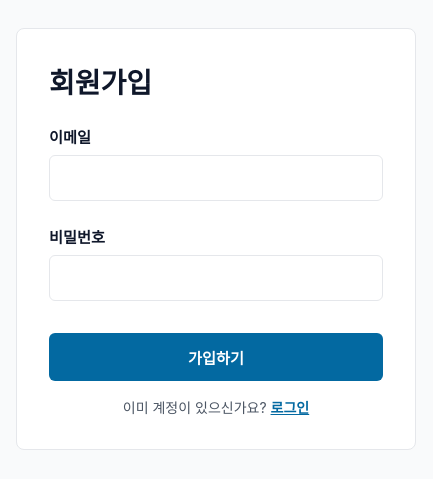
SignupPage › 6자 미만 비밀번호 입력 시 오류 메시지를 보여준다
Type "a@b.com" into the field labelled "이메일" at point(216, 178), box left=49, top=155, right=383, bottom=201
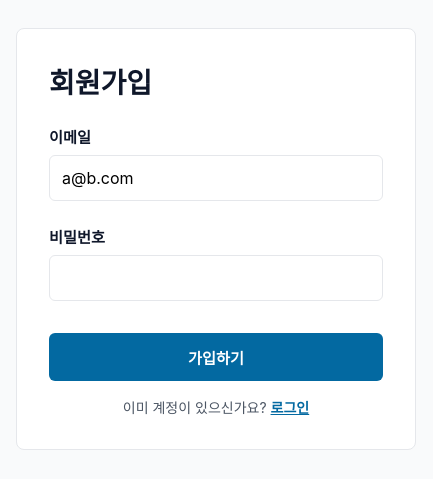
Type "123" into the password field labelled "비밀번호" at point(216, 278), box left=49, top=255, right=383, bottom=301
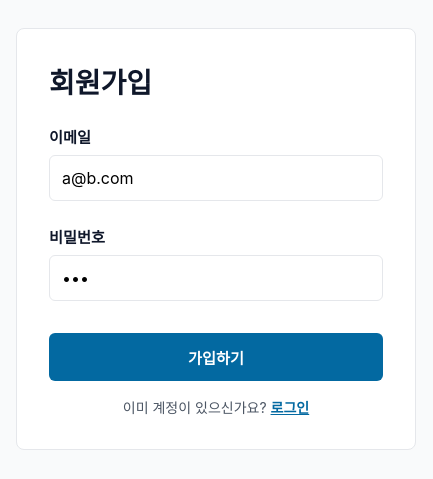
Click the button "가입하기" at point(216, 357), box left=49, top=333, right=383, bottom=381
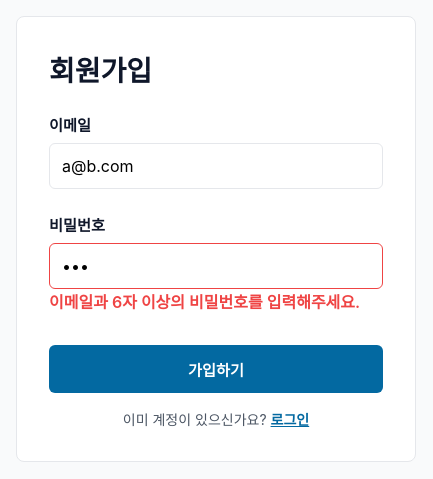
Check: the text "이메일과 6자 이상의 비밀번호를 입력해주세요." is shown, box left=49, top=292, right=360, bottom=312
